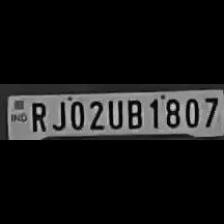0: (67, 97, 85, 130), (182, 94, 198, 128)
1: (144, 97, 162, 129)
2: (86, 97, 104, 130)
7: (200, 94, 218, 128)
8: (162, 96, 182, 128)
B: (124, 97, 142, 129)
J: (49, 97, 67, 130)
R: (27, 98, 47, 132)
U: (106, 96, 122, 130)
